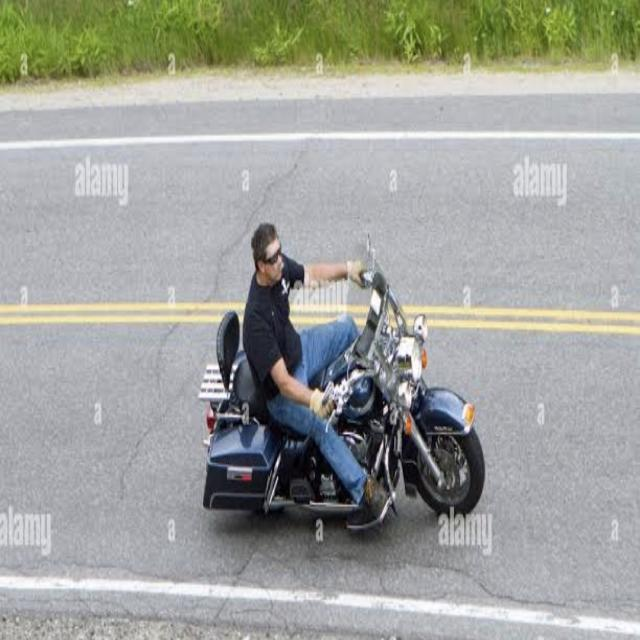WithoutHelmet: (242, 223, 389, 523)
